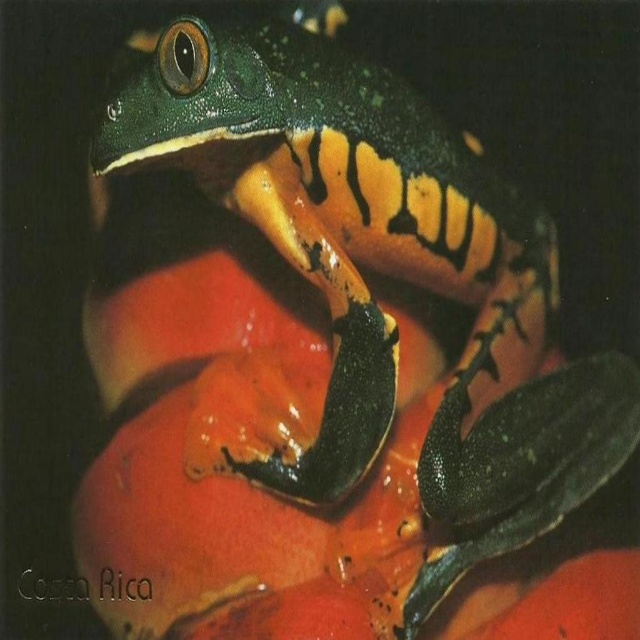Frog: (91, 0, 640, 640)
